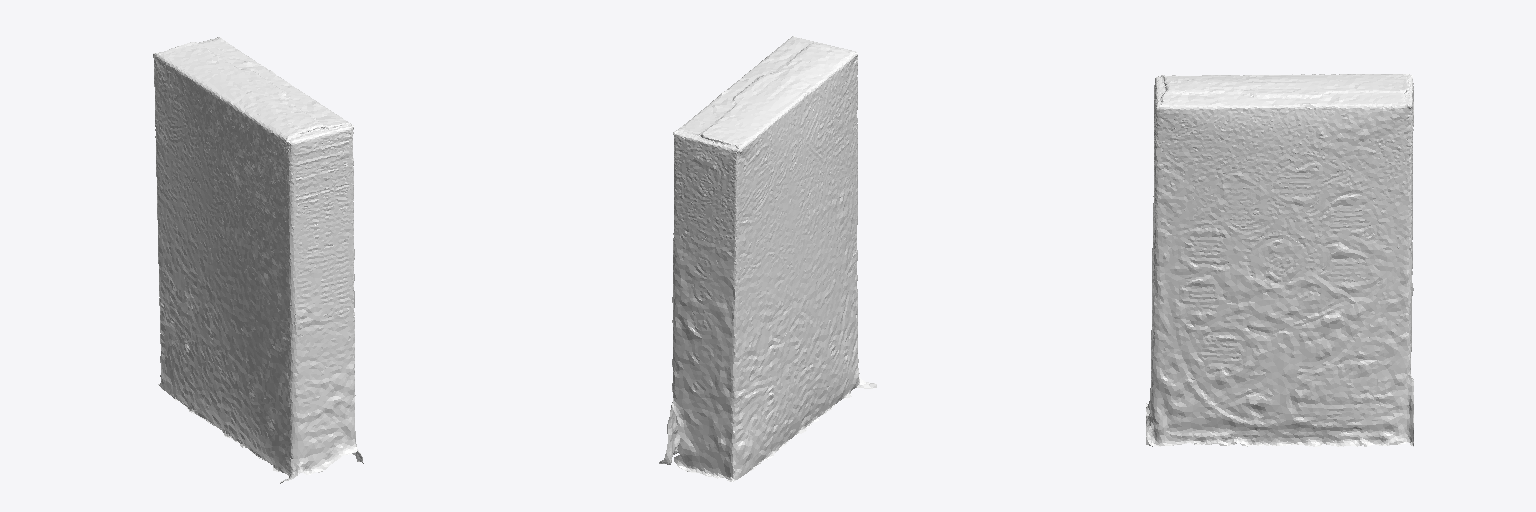
The model's file is bob_ross.obj.
3 renders of one model, left to right at view 1: azimuth 30°, elevation 25°; view 2: azimuth 150°, elevation 25°; view 3: azimuth 270°, elevation 25°, orthographic.
Bounding box in the file's own units: 0.0757 × 0.2882 × 0.2057.